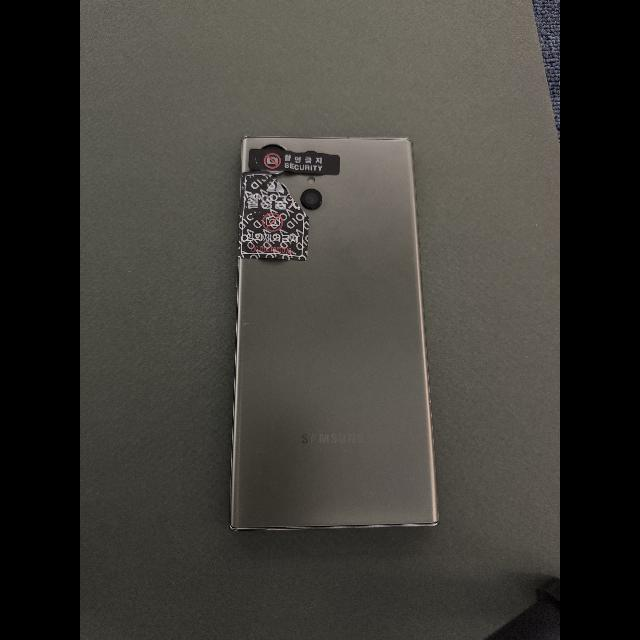lens: (278, 182, 290, 195), (262, 144, 286, 150), (304, 151, 318, 153)
phone: (230, 136, 438, 531)
sticker: (237, 171, 309, 261), (248, 149, 340, 175)
